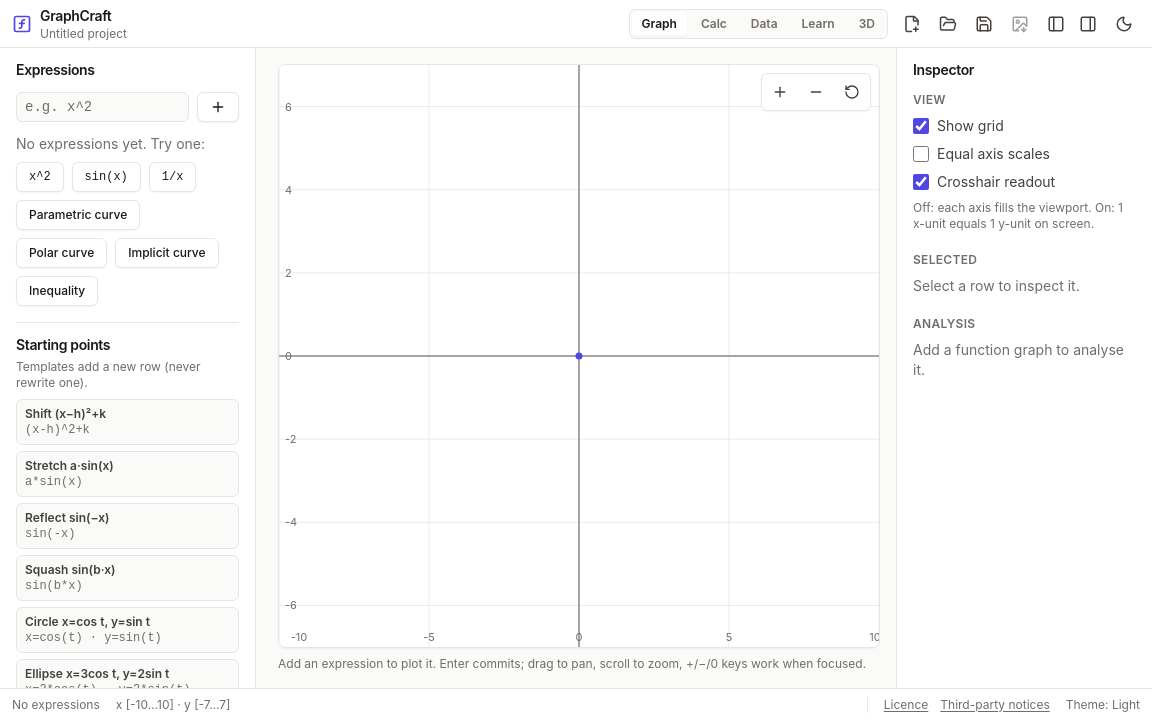
3D project round-trip › opens the 3D workspace without disturbing 2D state
The image size is (1152, 720).
Click the button named "Show 3D surfaces". click: (867, 24)
box: [849, 12, 885, 36]
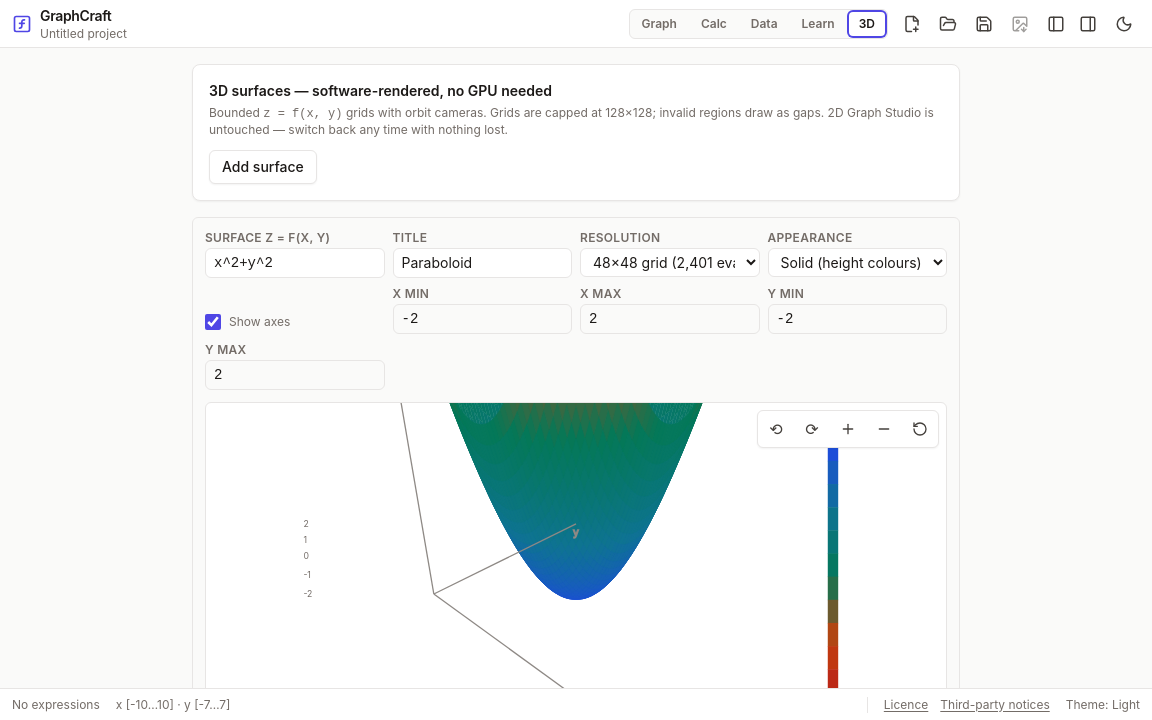
Expected: the element "3D surfaces" is shown
Click the button with aria-label "Show graph studio". click: (659, 24)
box: [632, 12, 687, 36]
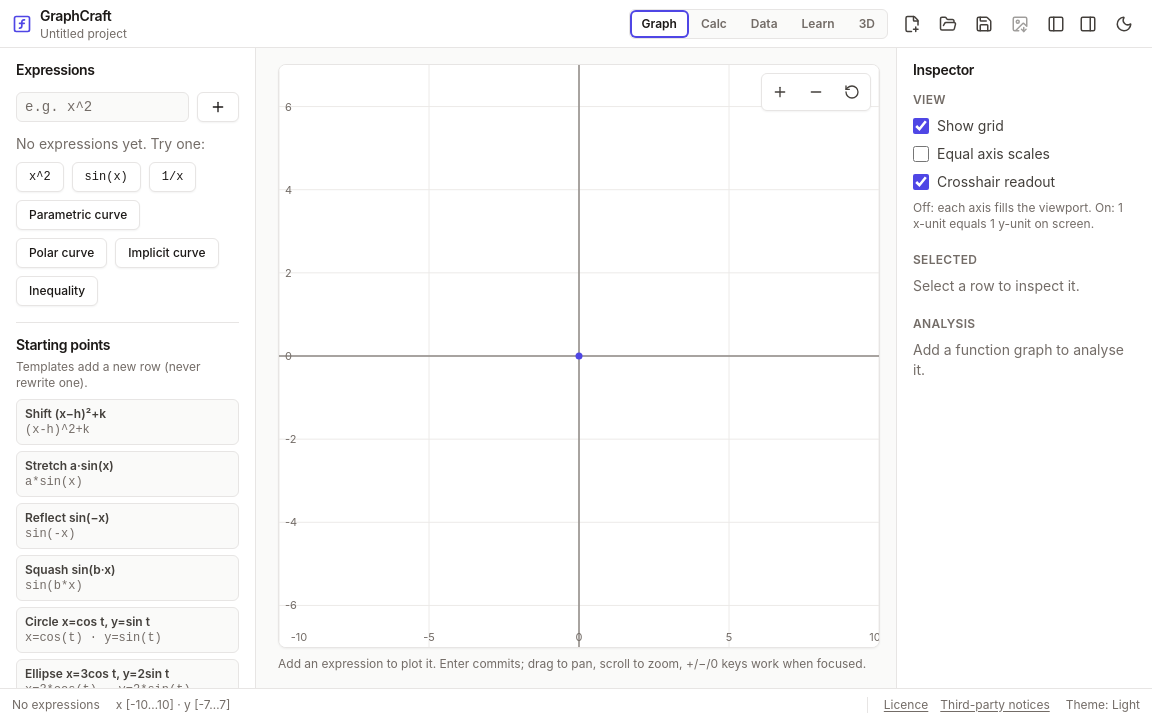
Expected: the element named "Graph viewport" is shown, [262, 48, 896, 688]
Click the button named "Show 3D surfaces". click: (867, 24)
box: [849, 12, 885, 36]
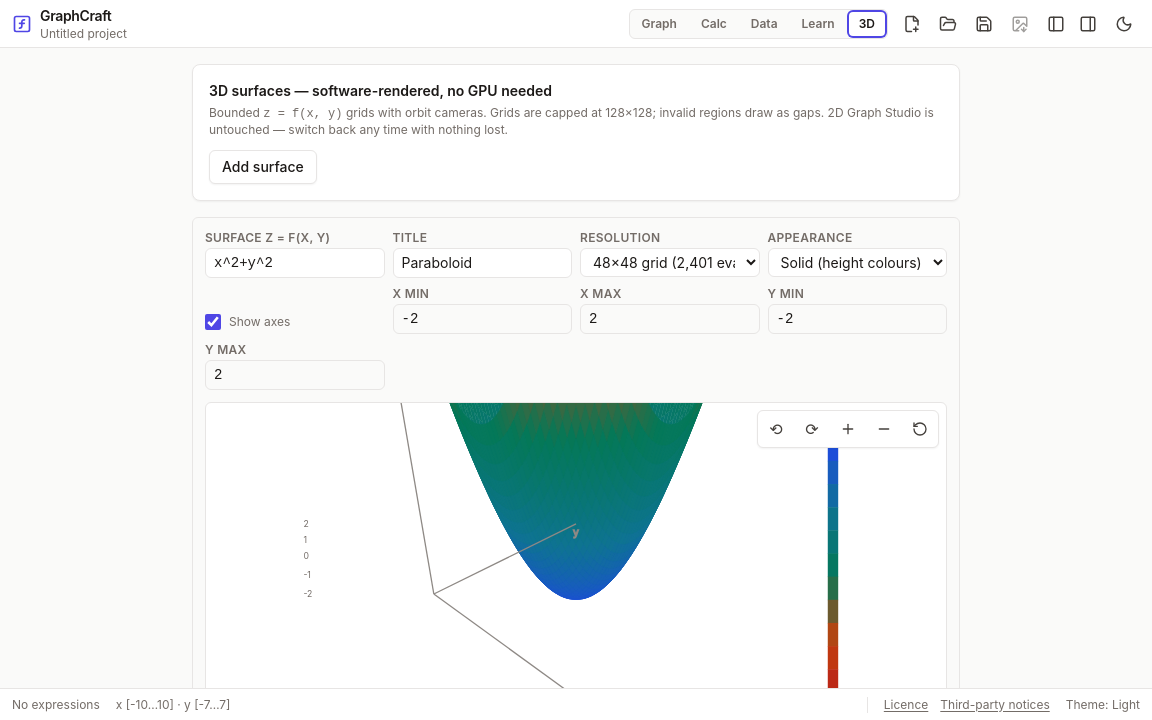
Expected: the element "3D surfaces" is shown
